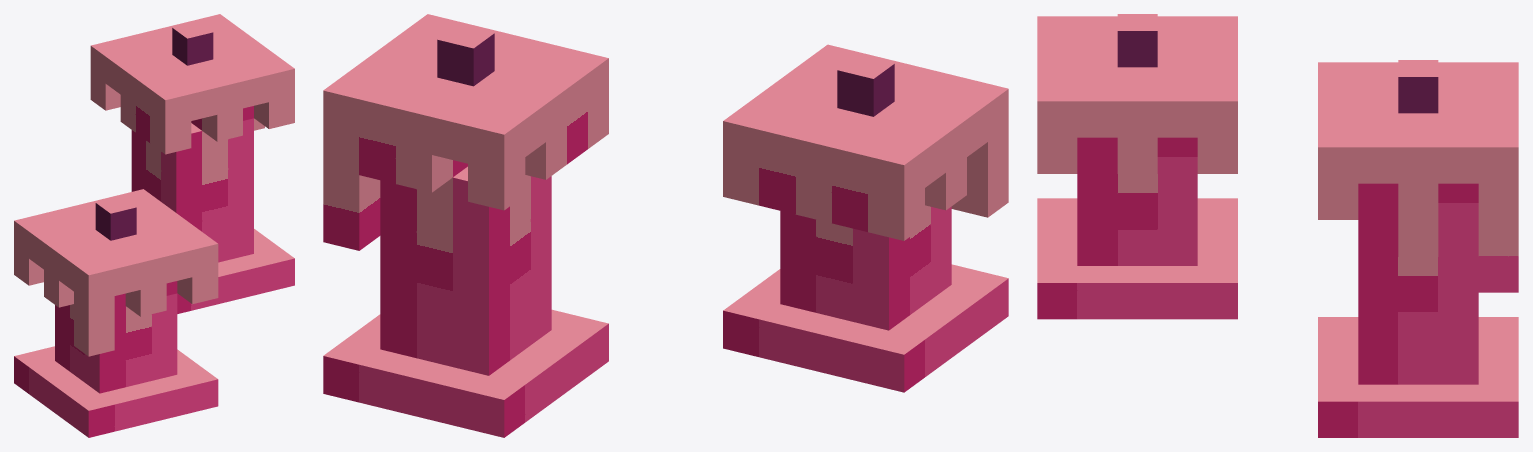
File: candles_bao.fezao.glb
3 renders of one model, left to right at view 1: azimuth 30°, elevation 25°; view 2: azimuth 150°, elevation 25°; view 3: azimuth 270°, elevation 25°, orthographic. The views are drawn at different scales.
Parts seen in each view (by area): view 1: CANDLES_BAO; view 2: CANDLES_BAO; view 3: CANDLES_BAO.
Boxes of the visible parts, x1,y1,x2,y2 form: CANDLES_BAO: (14, 14, 294, 437); CANDLES_BAO: (323, 14, 1008, 437); CANDLES_BAO: (1037, 14, 1518, 437).
Size of the model in its own units: 0.75 by 0.5625 by 0.75.
Materials: 1 (1 with a texture image).
